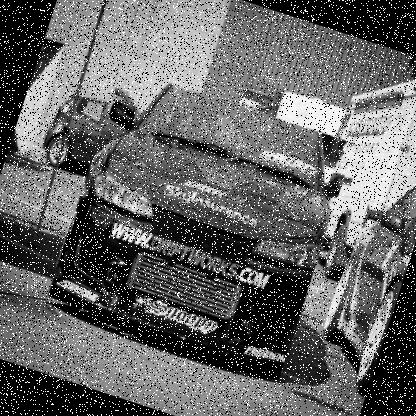Car: (44, 68, 356, 382), (307, 160, 415, 397), (38, 90, 145, 189)
